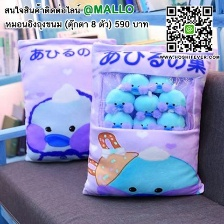snack: (74, 36, 220, 204), (10, 33, 123, 169)
